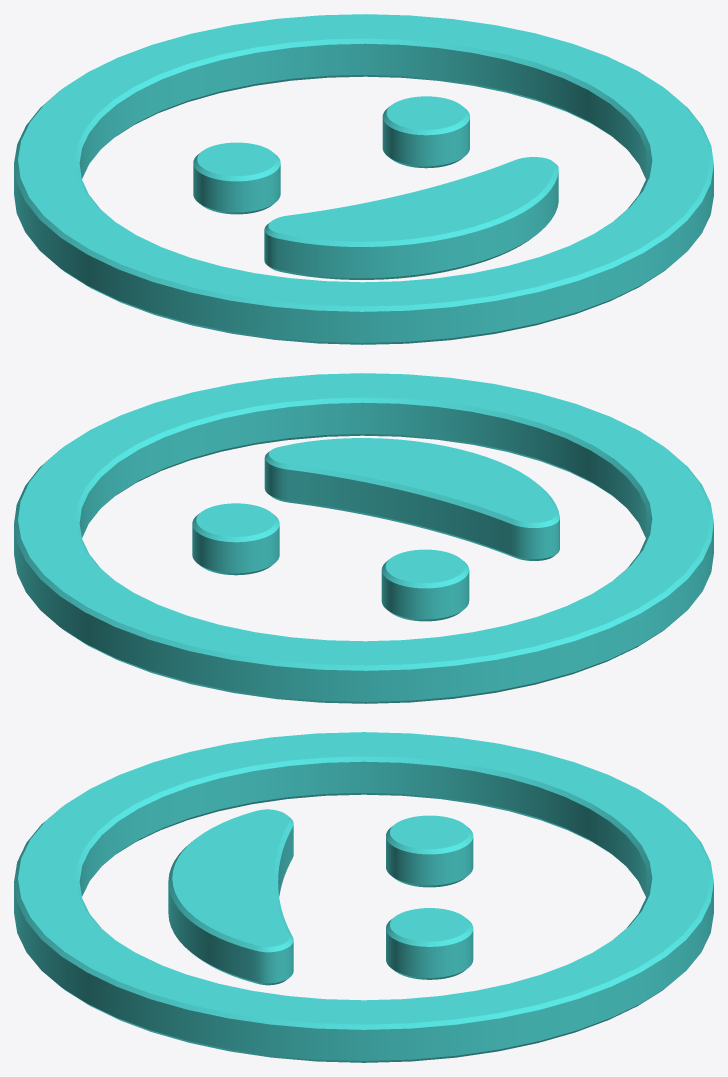
The picture shows the model from 3 angles, top to bottom: view 1: azimuth 30°, elevation 25°; view 2: azimuth 150°, elevation 25°; view 3: azimuth 270°, elevation 25°; orthographic projection.
Parts seen in each view (by area): view 1: FACEGRIN; view 2: FACEGRIN; view 3: FACEGRIN.
Boxes of the visible parts, x1,y1,x2,y2 form: FACEGRIN: (14,14,713,344); FACEGRIN: (14,373,713,703); FACEGRIN: (14,732,713,1062).
Size of the model in its own units: 0.0417 by 0.00251 by 0.0417.
